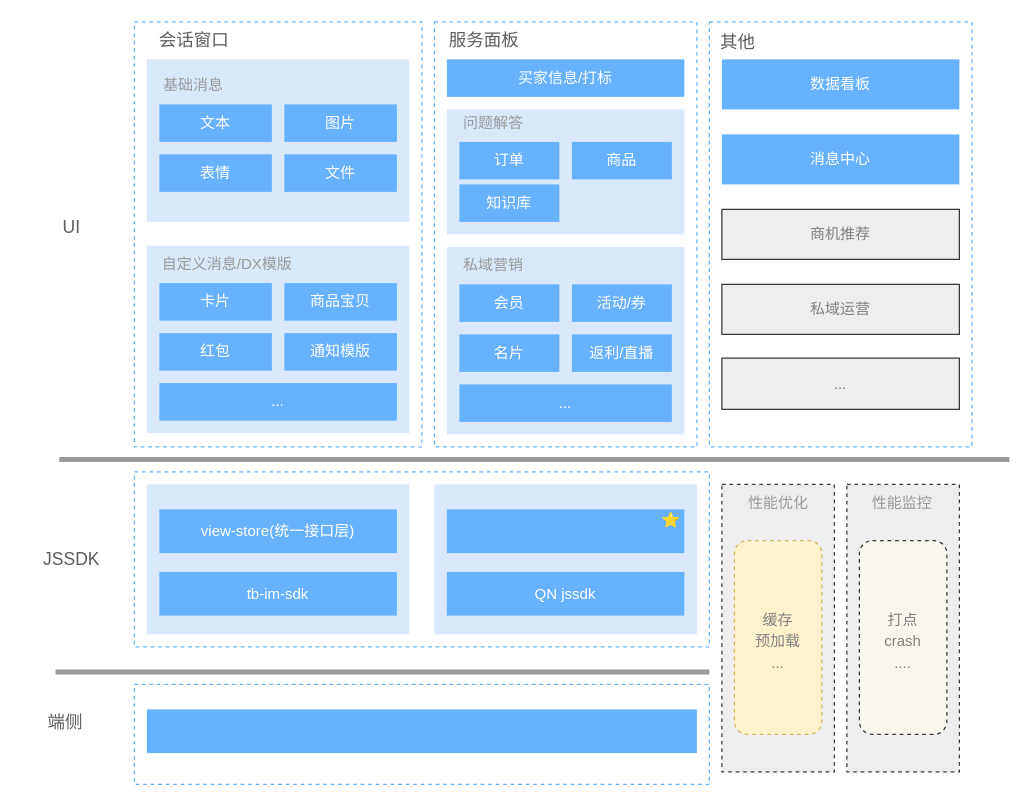
Image size: 1034x806. Some labels were removed from this diagram. Each missing label, with the box of its shape:
@ali/rox-qn-bridge: (446, 509, 684, 552)
钉钉 IM Paas: (146, 709, 696, 752)
